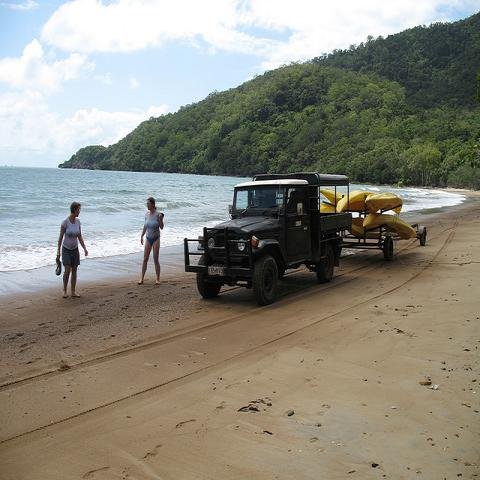truck: (186, 174, 354, 304)
